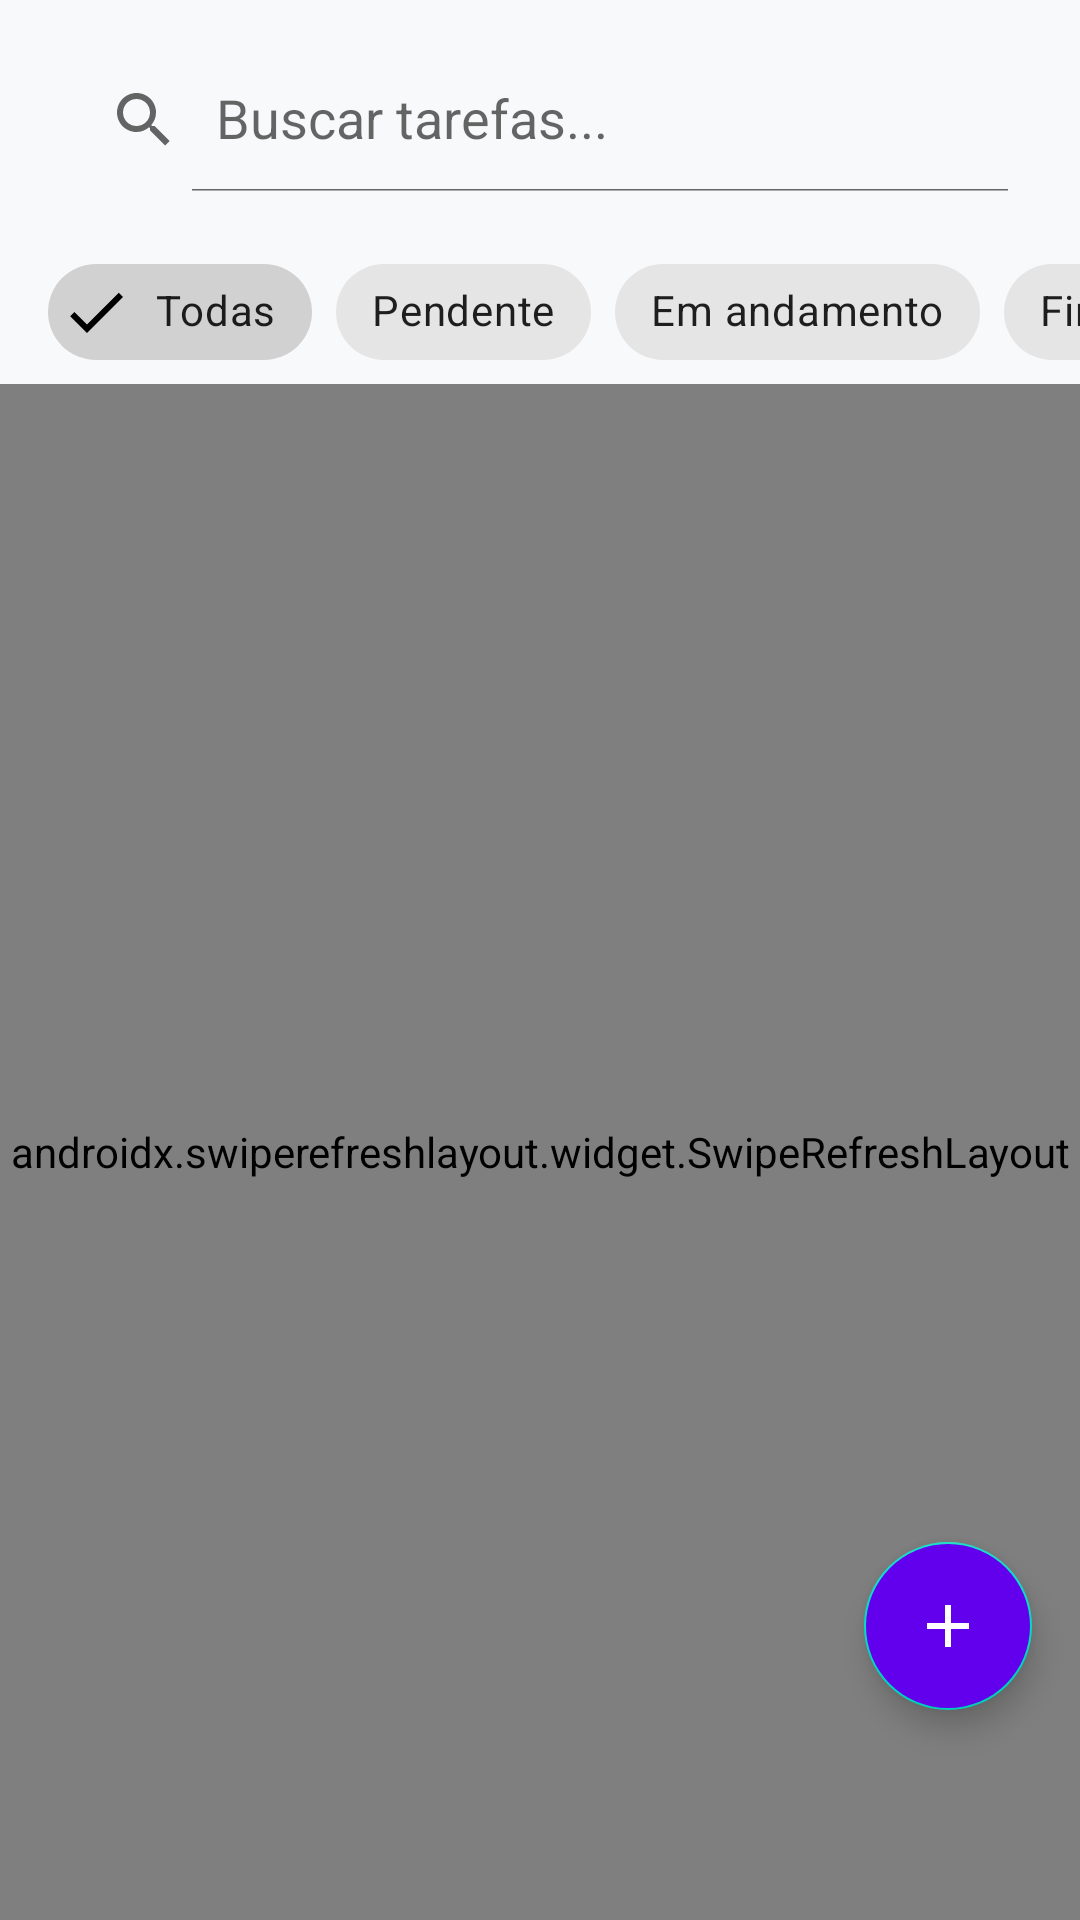

Point at icon controls on the screen. Image size 1080×1920, points as [x,y].
add: [948,1626]
